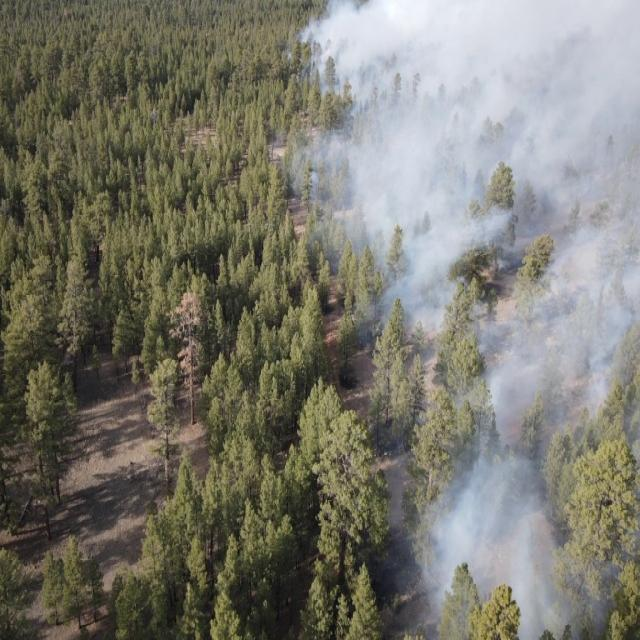smoke: (286, 0, 640, 391), (375, 394, 640, 640)
